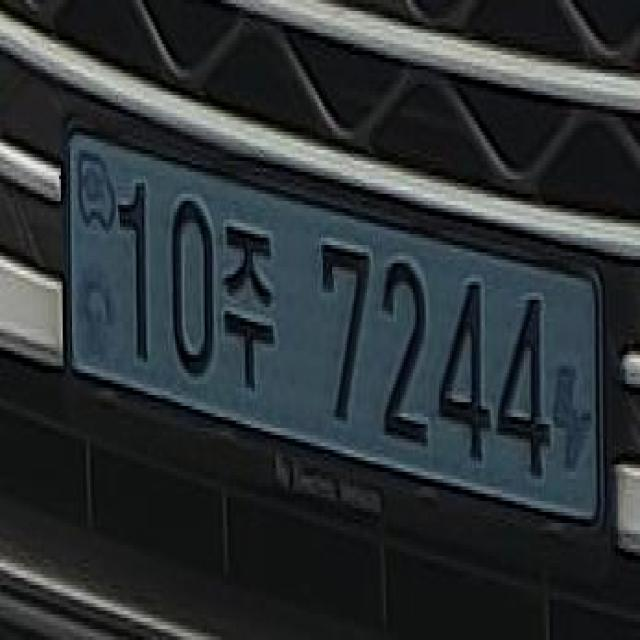EV_plate: (48, 114, 622, 562)
